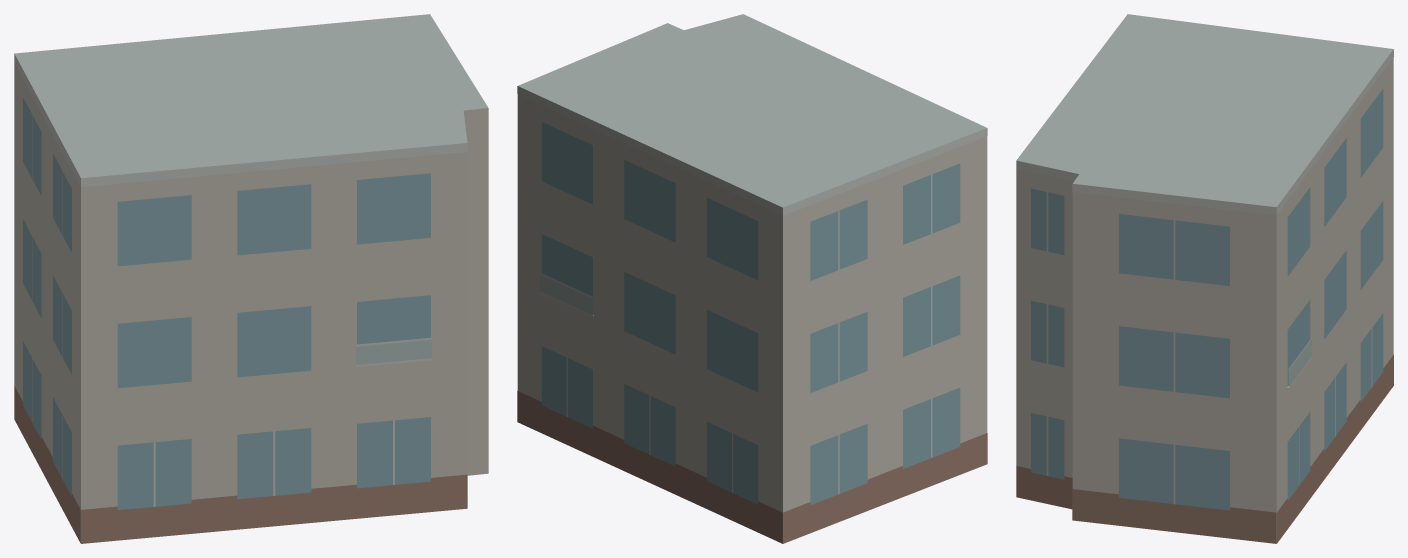
File: survey-upis-32591618.glb
3 renders of one model, left to right at view 1: azimuth 30°, elevation 25°; view 2: azimuth 150°, elevation 25°; view 3: azimuth 270°, elevation 25°, orthographic. The views are drawn at different scales.
Parts seen in each view (by area): view 1: survey-upis-32591618.tmp; view 2: survey-upis-32591618.tmp; view 3: survey-upis-32591618.tmp.
Boxes of the visible parts, x1,y1,x2,y2 form: survey-upis-32591618.tmp: (14, 14, 488, 543); survey-upis-32591618.tmp: (517, 14, 987, 543); survey-upis-32591618.tmp: (1016, 14, 1393, 543).
Size of the model in its own units: 12.32 by 10 by 10.17.
